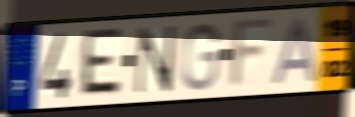4: (39, 29, 73, 101)
A: (269, 16, 321, 87)
E: (77, 25, 124, 98)
F: (226, 14, 278, 93)
G: (179, 21, 222, 93)
N: (133, 23, 178, 97)
